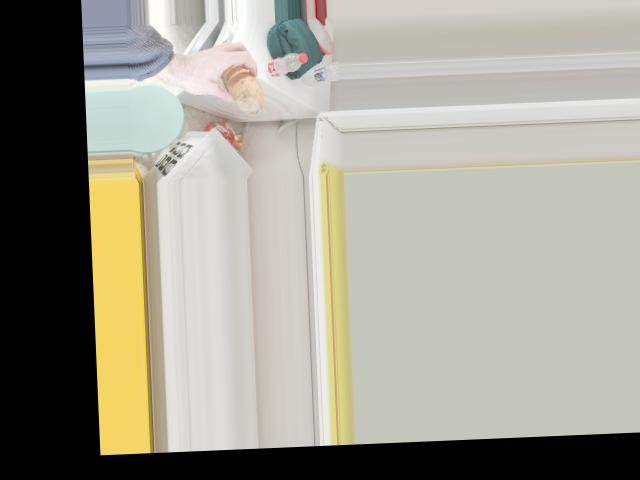sweet_potato: (220, 61, 265, 106)
